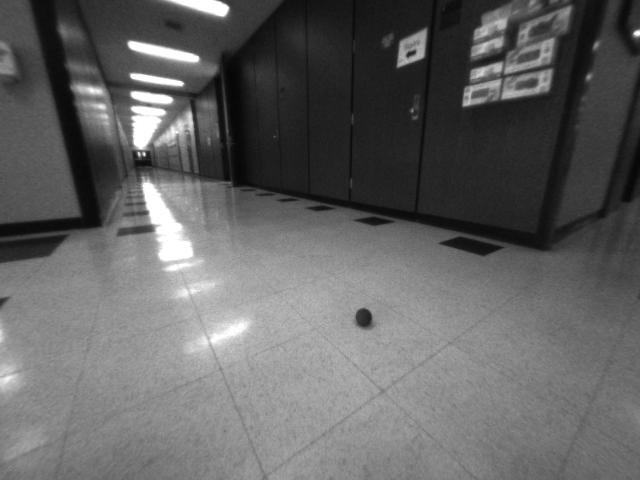dogtoy: (344, 299, 389, 334)
